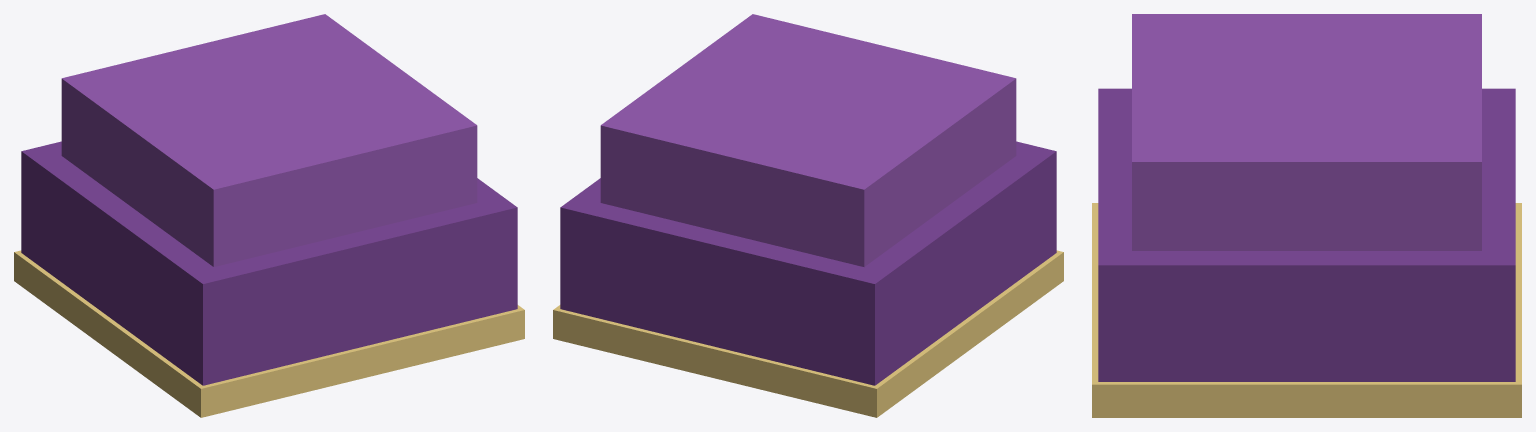
The model's file is mago_sombrio_manga_inf.glb.
3 views of the same model, side by side, from view 1: azimuth 30°, elevation 25°; view 2: azimuth 150°, elevation 25°; view 3: azimuth 270°, elevation 25° (orthographic). The views are drawn at different scales.
Parts seen in each view (by area): view 1: mago_sombrio_manga_inf; view 2: mago_sombrio_manga_inf; view 3: mago_sombrio_manga_inf.
Boxes of the visible parts, <box> form: mago_sombrio_manga_inf: <box>14,14,524,417</box>; mago_sombrio_manga_inf: <box>553,14,1063,417</box>; mago_sombrio_manga_inf: <box>1092,14,1521,417</box>.
Bounding box in the file's own units: 0.35 × 0.215 × 0.35.
